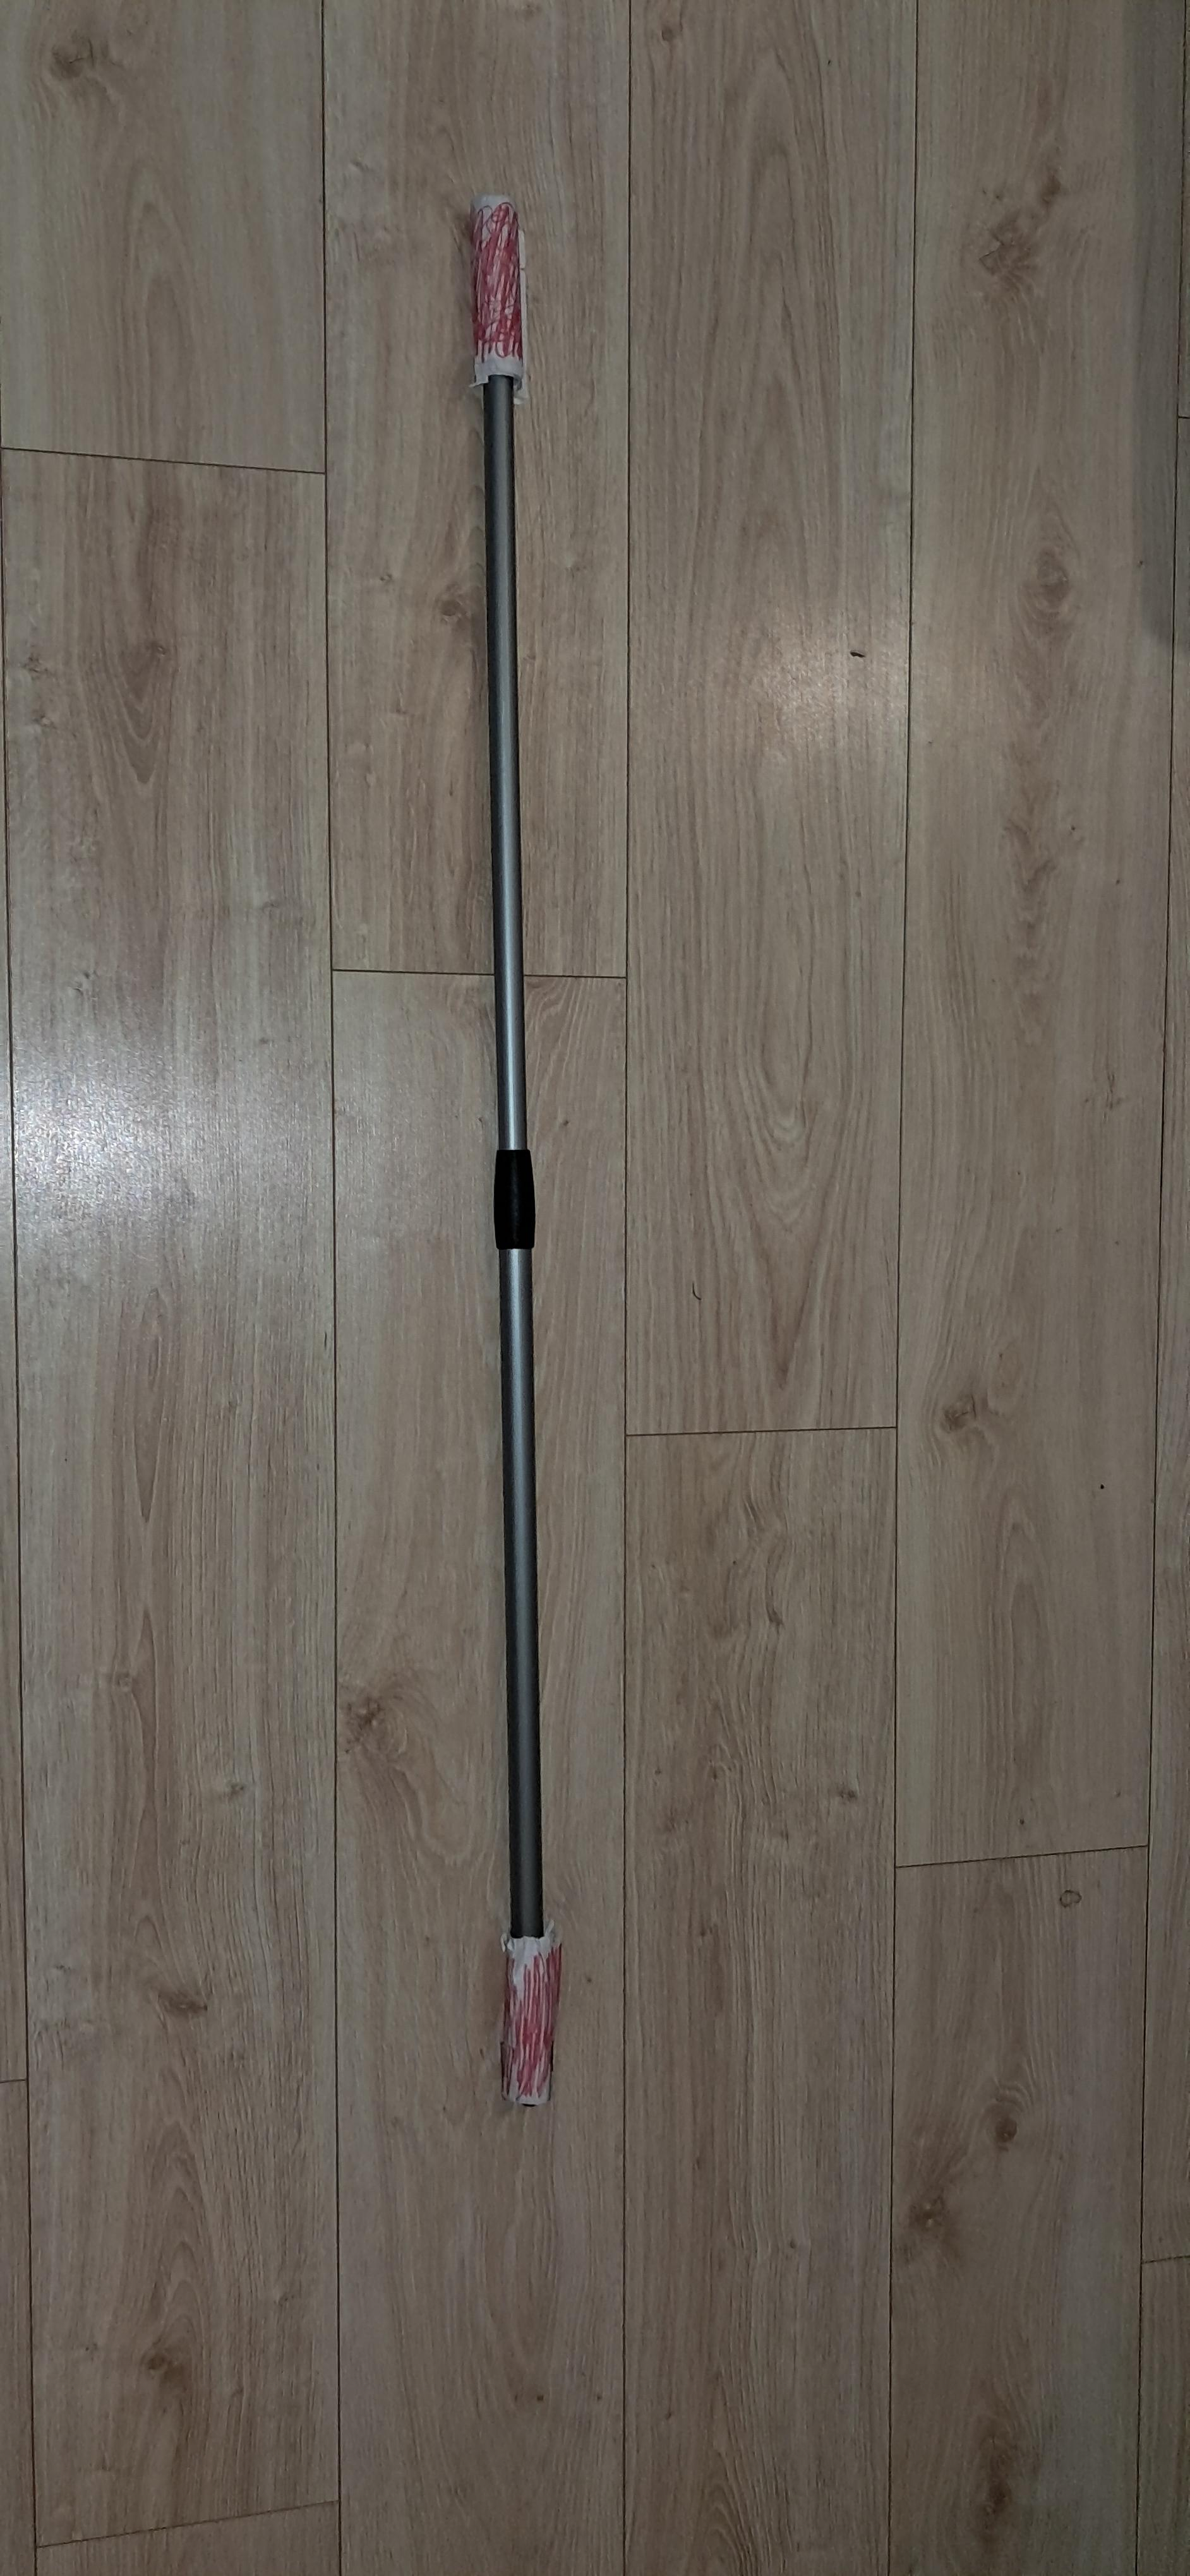broom-handle: (472, 199, 549, 2100)
